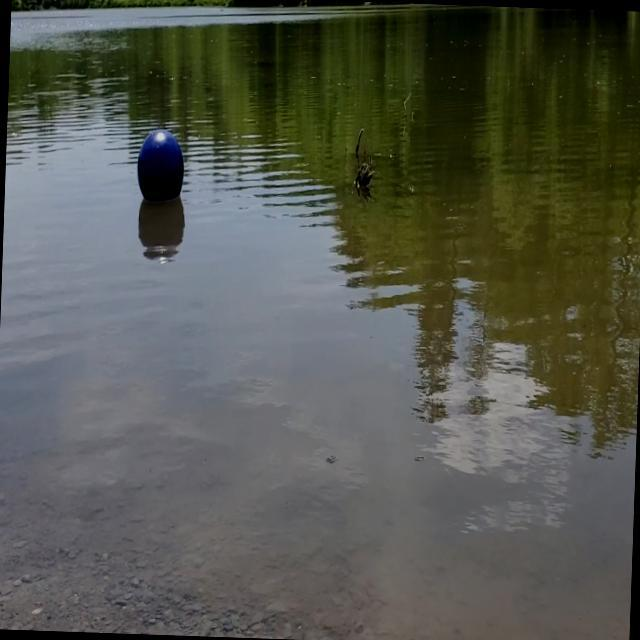buoy: (132, 125, 188, 207)
